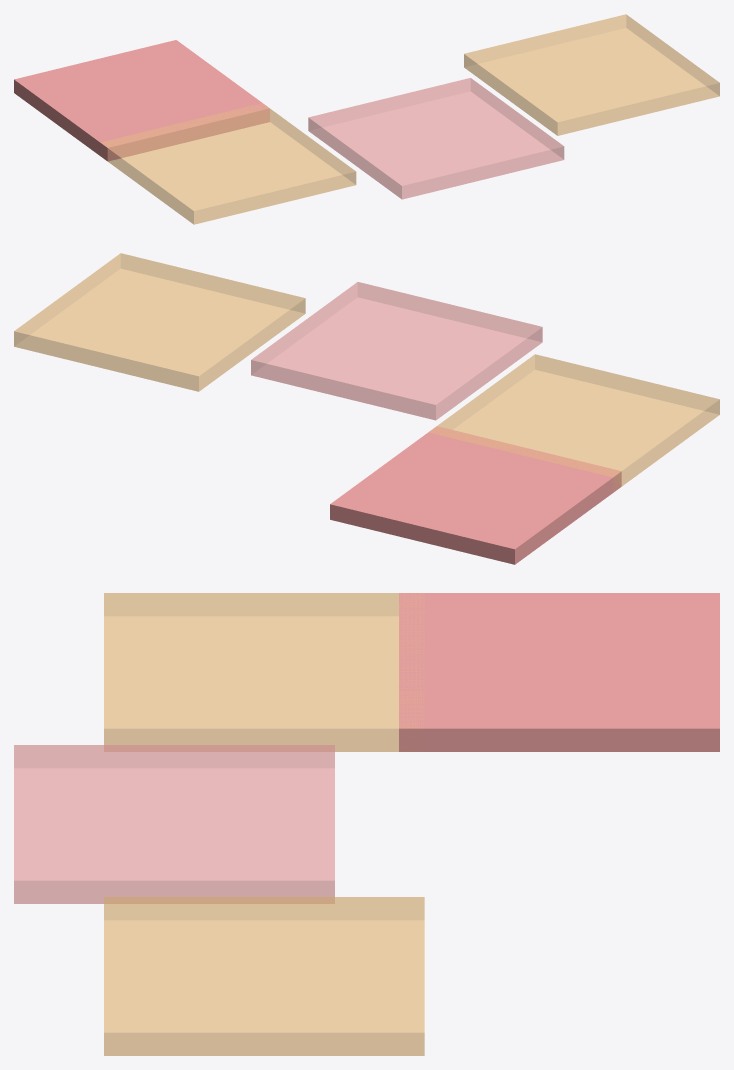
File: castello_step4.glb
3 renders of one model, top to bottom at view 1: azimuth 30°, elevation 25°; view 2: azimuth 150°, elevation 25°; view 3: azimuth 270°, elevation 25°, orthographic. The views are drawn at different scales.
Parts seen in each view (by area): view 1: quadrato_grande, quadrato_piccolo.001, quadrato_grande.001, quadrato_piccolo; view 2: quadrato_grande, quadrato_piccolo.001, quadrato_grande.001, quadrato_piccolo; view 3: quadrato_grande, quadrato_piccolo.001, quadrato_grande.001, quadrato_piccolo.
Part boxes in pixels (<box>): quadrato_grande: <box>308,78,564,199</box>; quadrato_piccolo.001: <box>464,14,719,135</box>; quadrato_grande.001: <box>14,40,269,161</box>; quadrato_piccolo: <box>100,103,356,224</box>; quadrato_grande: <box>251,282,542,420</box>; quadrato_piccolo.001: <box>14,253,305,391</box>; quadrato_grande.001: <box>330,426,621,564</box>; quadrato_piccolo: <box>429,354,719,491</box>; quadrato_grande: <box>14,745,334,903</box>; quadrato_piccolo.001: <box>104,897,424,1055</box>; quadrato_grande.001: <box>399,593,719,751</box>; quadrato_piccolo: <box>104,593,424,751</box>.
Bounding box in the file's own units: 3.24 × 0.08 × 2.2.
